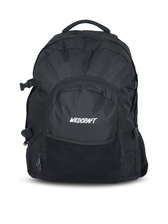bag: (18, 21, 151, 184)
